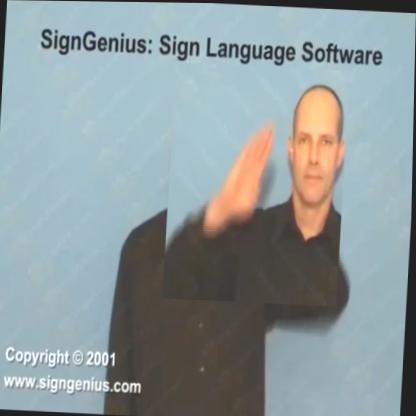Hello: (164, 62, 350, 307)
